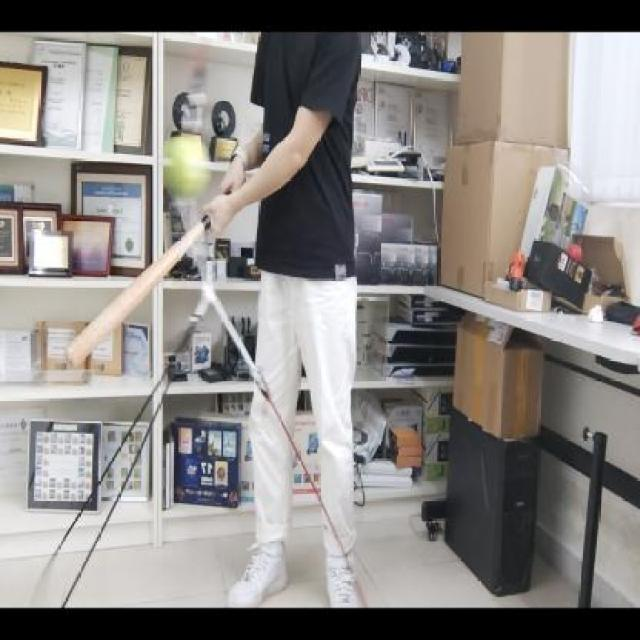baseball: (162, 133, 210, 204)
